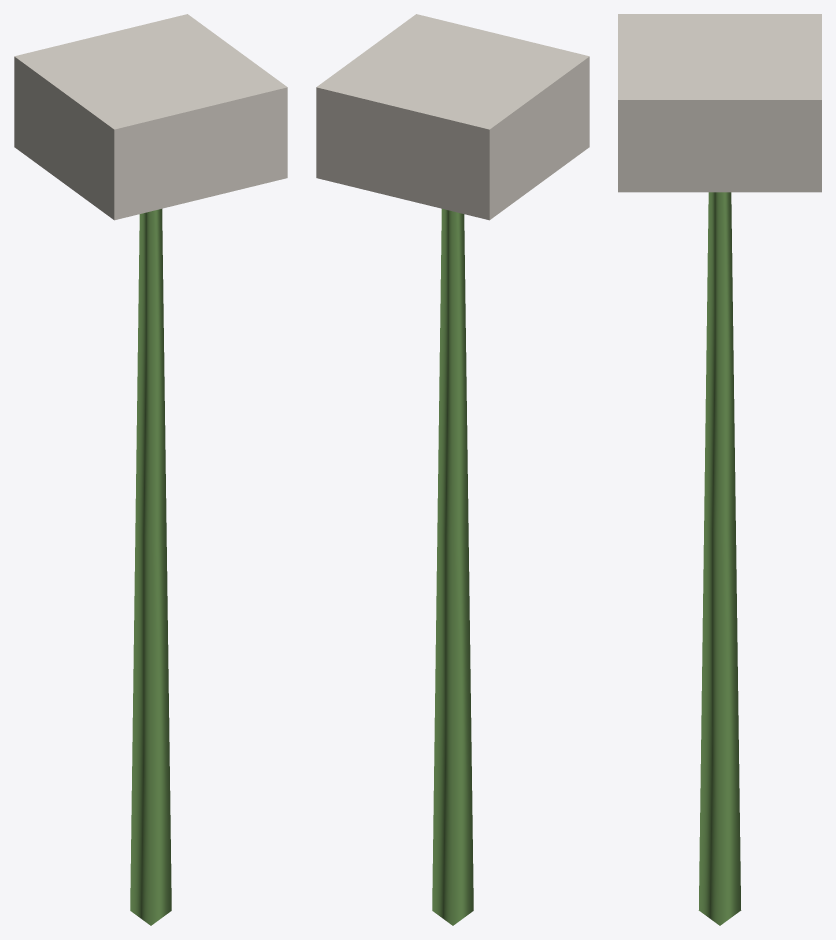
The model's file is flower.glb.
3 renders of one model, left to right at view 1: azimuth 30°, elevation 25°; view 2: azimuth 150°, elevation 25°; view 3: azimuth 270°, elevation 25°, orthographic.
Visible parts, largest first — view 1: head, stem; view 2: head, stem; view 3: head, stem.
Boxes of the visible parts, x1=… form: head: x1=14, y1=14, x2=287, y2=220; stem: x1=130, y1=209, x2=171, y2=925; head: x1=316, y1=14, x2=589, y2=220; stem: x1=432, y1=209, x2=473, y2=925; head: x1=618, y1=14, x2=821, y2=192; stem: x1=698, y1=192, x2=741, y2=925.
Size of the model in its own units: 0.1 by 0.465 by 0.1.
